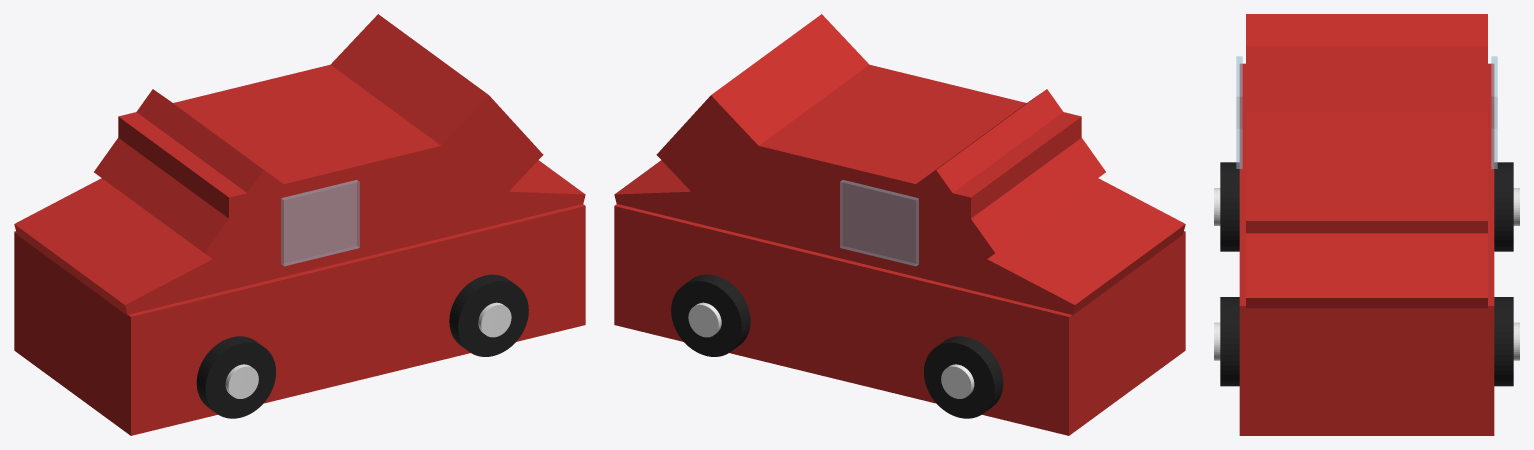
3 views of the same model, side by side, from view 1: azimuth 30°, elevation 25°; view 2: azimuth 150°, elevation 25°; view 3: azimuth 270°, elevation 25° (orthographic). The views are drawn at different scales.
Visible parts, largest first — view 1: part_15, part_14, part_10, part_11, part_13, part_1, part_7, part_9, part_12, part_3, part_5; view 2: part_15, part_14, part_10, part_11, part_13, part_0, part_6, part_8, part_12, part_2, part_4; view 3: part_15, part_10, part_12, part_14, part_11, part_6, part_7, part_8, part_9, part_0, part_1.
Part boxes in pixels (box(x1,y1,x2,y2)): part_15: box(14, 204, 585, 435); part_14: box(118, 64, 481, 289); part_10: box(330, 14, 543, 248); part_11: box(94, 89, 328, 284); part_13: box(14, 178, 243, 315); part_1: box(281, 180, 359, 266); part_7: box(449, 274, 528, 356); part_9: box(196, 336, 275, 418); part_12: box(466, 160, 585, 228); part_3: box(478, 302, 511, 337); part_5: box(225, 364, 258, 398); part_15: box(614, 204, 1185, 435); part_14: box(718, 64, 1081, 289); part_10: box(656, 14, 869, 248); part_11: box(871, 89, 1105, 284); part_13: box(957, 178, 1185, 315); part_0: box(840, 180, 918, 266); part_6: box(671, 274, 750, 356); part_8: box(924, 336, 1003, 418); part_12: box(614, 160, 745, 231); part_2: box(688, 302, 721, 337); part_4: box(941, 364, 974, 398); part_15: box(1239, 63, 1494, 435); part_10: box(1246, 112, 1487, 233); part_12: box(1246, 233, 1487, 308); part_14: box(1246, 45, 1487, 112); part_11: box(1246, 14, 1487, 45); part_6: box(1494, 297, 1513, 386); part_7: box(1220, 297, 1239, 386); part_8: box(1494, 162, 1513, 251); part_9: box(1220, 162, 1239, 251); part_0: box(1491, 56, 1497, 168); part_1: box(1236, 56, 1242, 168).
Size of the model in its own units: 1 by 0.5199 by 0.5267.
Materials: 4 (4 with a texture image).
